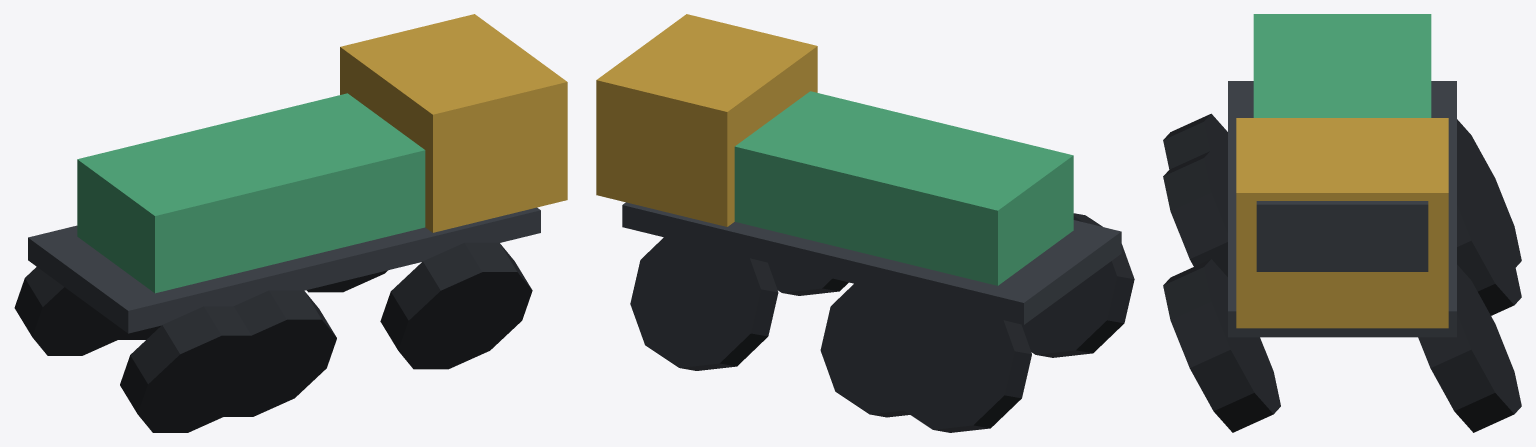
File: flatbed_truck.glb
3 views of the same model, side by side, from view 1: azimuth 30°, elevation 25°; view 2: azimuth 150°, elevation 25°; view 3: azimuth 270°, elevation 25° (orthographic). The views are drawn at different scales.
Visible parts, largest first — view 1: bundle, cab, truck_static_truck_flat, wheel_fr, wheel_rr, wheel_mr, wheel_rl, wheel_ml, wheel_fl; view 2: bundle, cab, truck_static_truck_flat, wheel_fl, wheel_ml, wheel_rl, wheel_rr, wheel_fr; view 3: cab, truck_static_truck_flat, bundle, wheel_fr, wheel_fl, wheel_mr, wheel_ml, wheel_rl, wheel_rr.
Part boxes in pixels (<box>): bundle: <box>77,93,425,293</box>; cab: <box>340,14,567,232</box>; truck_static_truck_flat: <box>28,207,540,333</box>; wheel_fr: <box>380,242,532,369</box>; wheel_rr: <box>120,306,271,432</box>; wheel_mr: <box>203,290,336,416</box>; wheel_rl: <box>14,267,127,355</box>; wheel_ml: <box>97,313,160,339</box>; wheel_fl: <box>306,270,387,292</box>; bundle: <box>734,91,1073,285</box>; cab: <box>596,14,817,226</box>; truck_static_truck_flat: <box>622,202,1121,324</box>; wheel_fl: <box>630,237,778,370</box>; wheel_ml: <box>820,283,951,417</box>; wheel_rl: <box>885,299,1031,432</box>; wheel_rr: <box>1022,213,1134,357</box>; wheel_fr: <box>768,262,848,295</box>; cab: <box>1236,118,1448,328</box>; truck_static_truck_flat: <box>1228,81,1456,337</box>; bundle: <box>1253,14,1431,117</box>; wheel_fr: <box>1163,259,1280,432</box>; wheel_fl: <box>1418,264,1521,432</box>; wheel_mr: <box>1163,151,1227,276</box>; wheel_ml: <box>1457,157,1521,315</box>; wheel_rl: <box>1457,119,1521,267</box>; wheel_rr: <box>1163,113,1227,192</box>.
Bounding box in the file's own units: 2.07 × 1.14 × 1.25.
